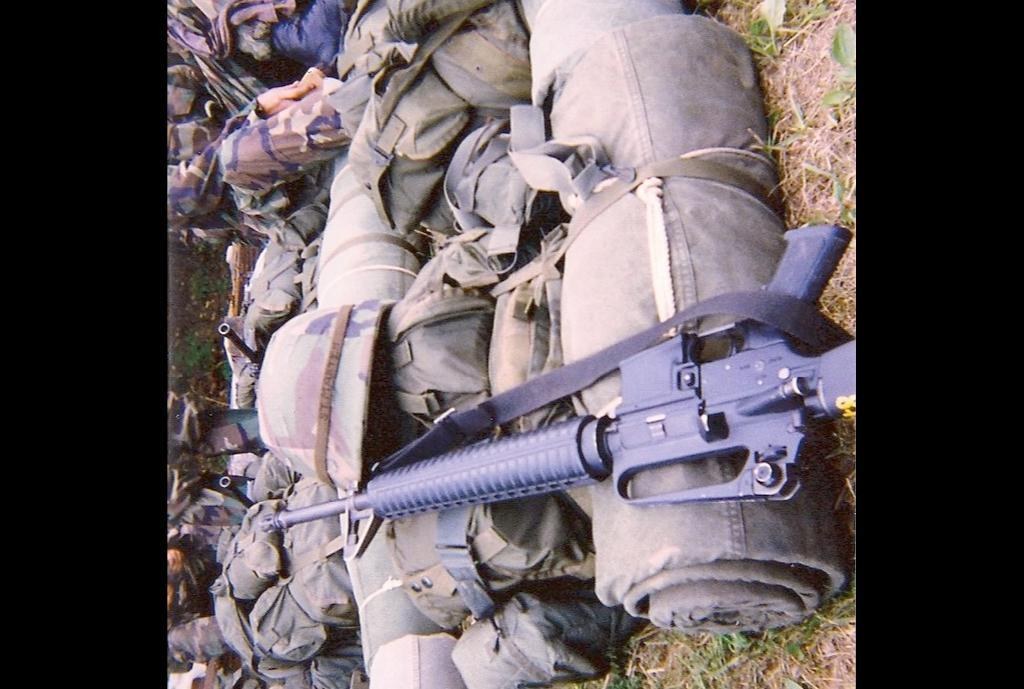gun: (252, 221, 856, 544)
